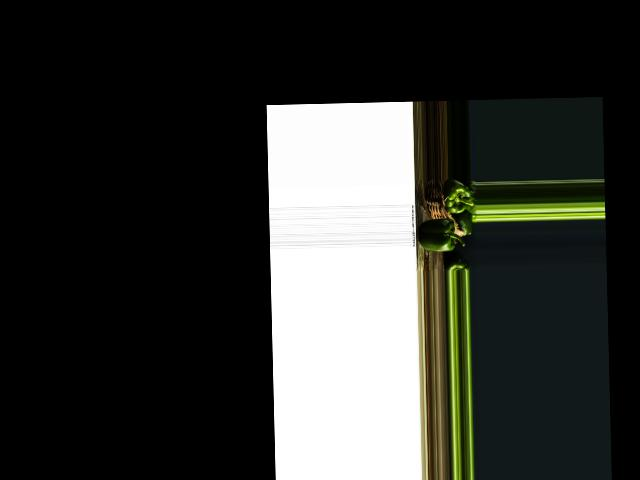bell_pepper: (448, 257, 469, 271)
